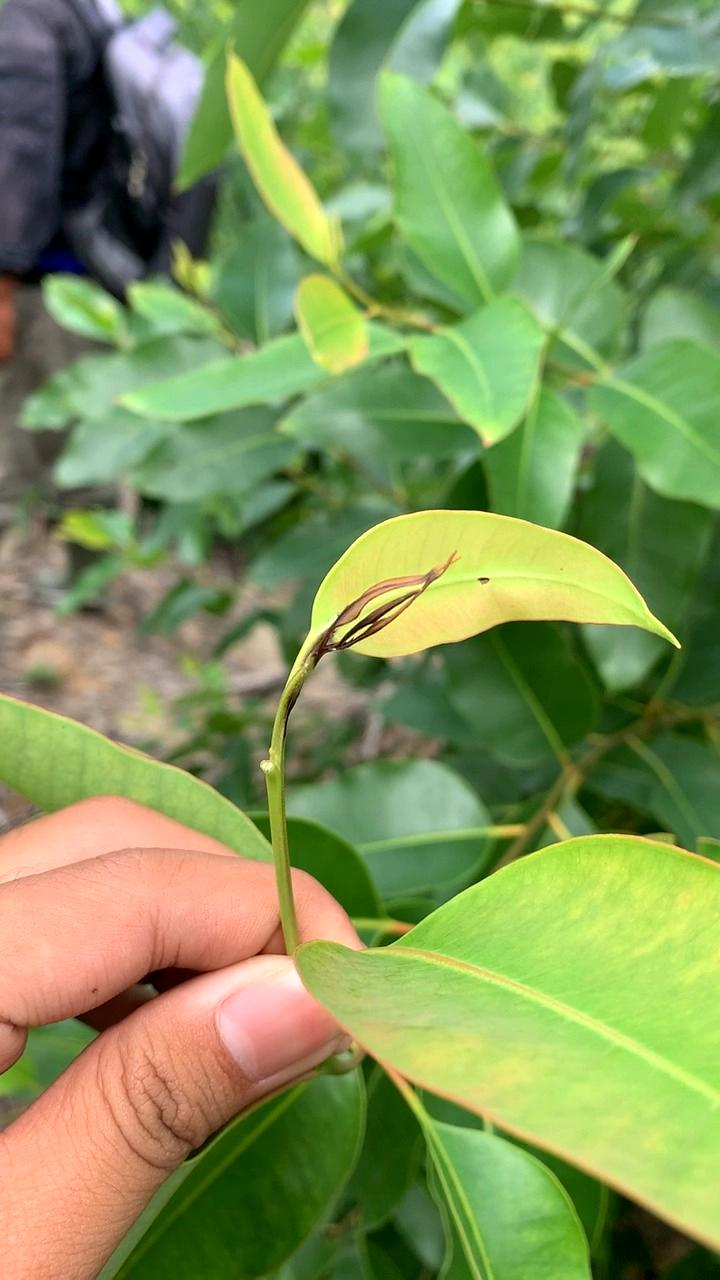Helopeltis-Withered Sprout: (295, 538, 476, 689)
